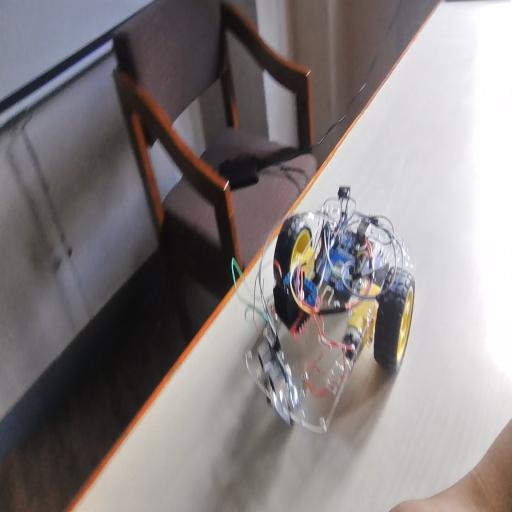car: (232, 159, 429, 417)
